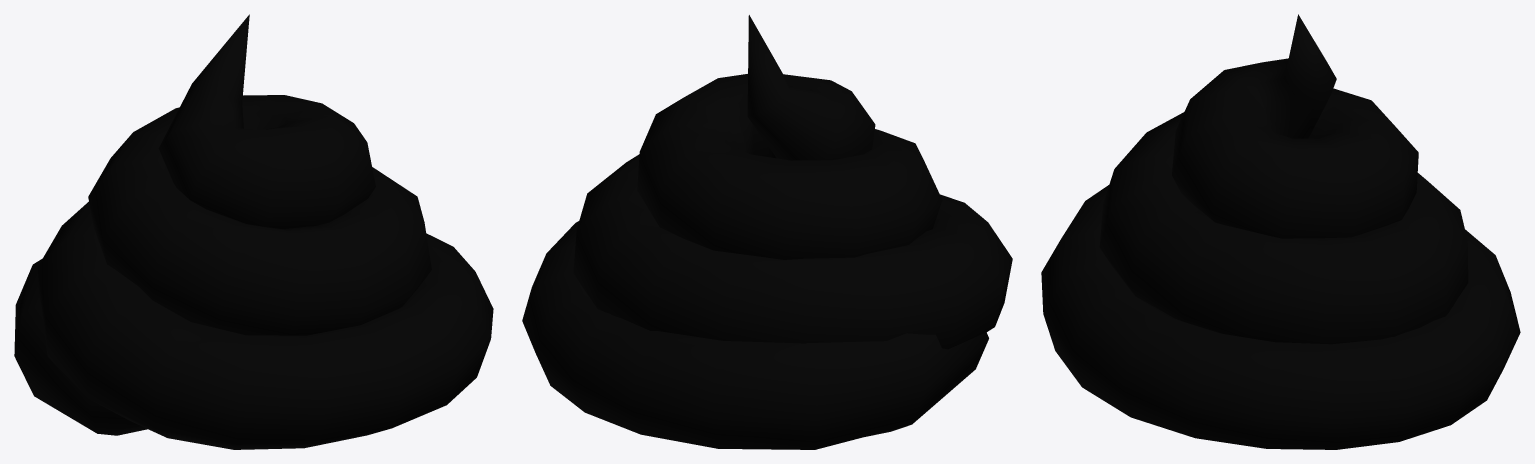
Rendered from poop.fbx.
3 views of the same model, side by side, from view 1: azimuth 30°, elevation 25°; view 2: azimuth 150°, elevation 25°; view 3: azimuth 270°, elevation 25° (orthographic).
Visible parts, largest first — view 1: poop; view 2: poop; view 3: poop.
Boxes of the visible parts, <box> form: poop: <box>14,14,493,449</box>; poop: <box>522,15,1012,449</box>; poop: <box>1041,14,1520,449</box>.
Size of the model in its own units: 1.58 by 1.35 by 1.59.
Materials: 1 (1 with a texture image).
